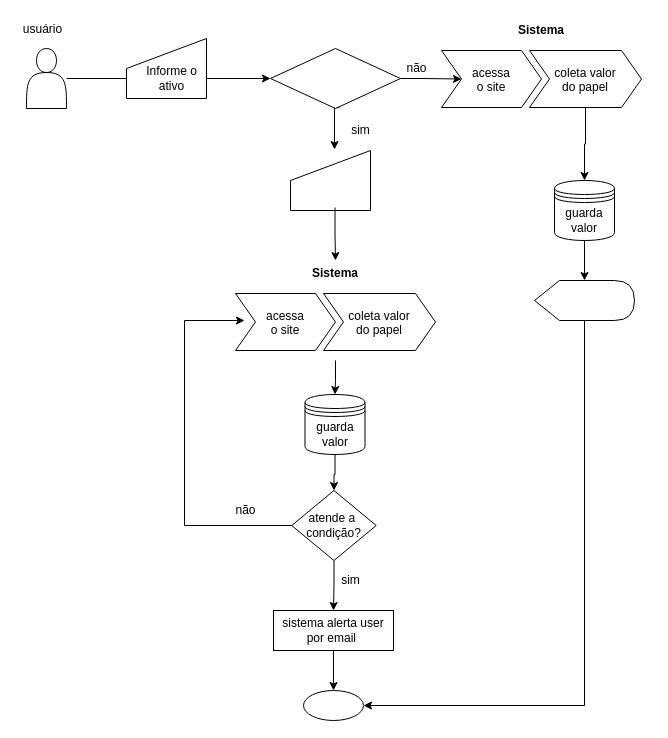
The diagram is 668 pixels wide and 738 high, and some of its shapes have lost their labels. Here are the shapes that lost their labels. From the top down, the box of each, then its label:
(270, 48, 400, 108): acompanhar ativo?
(290, 150, 370, 210): informe a % da variação
(534, 280, 634, 320): exibe valor do ativo
(302, 690, 364, 720): fim
